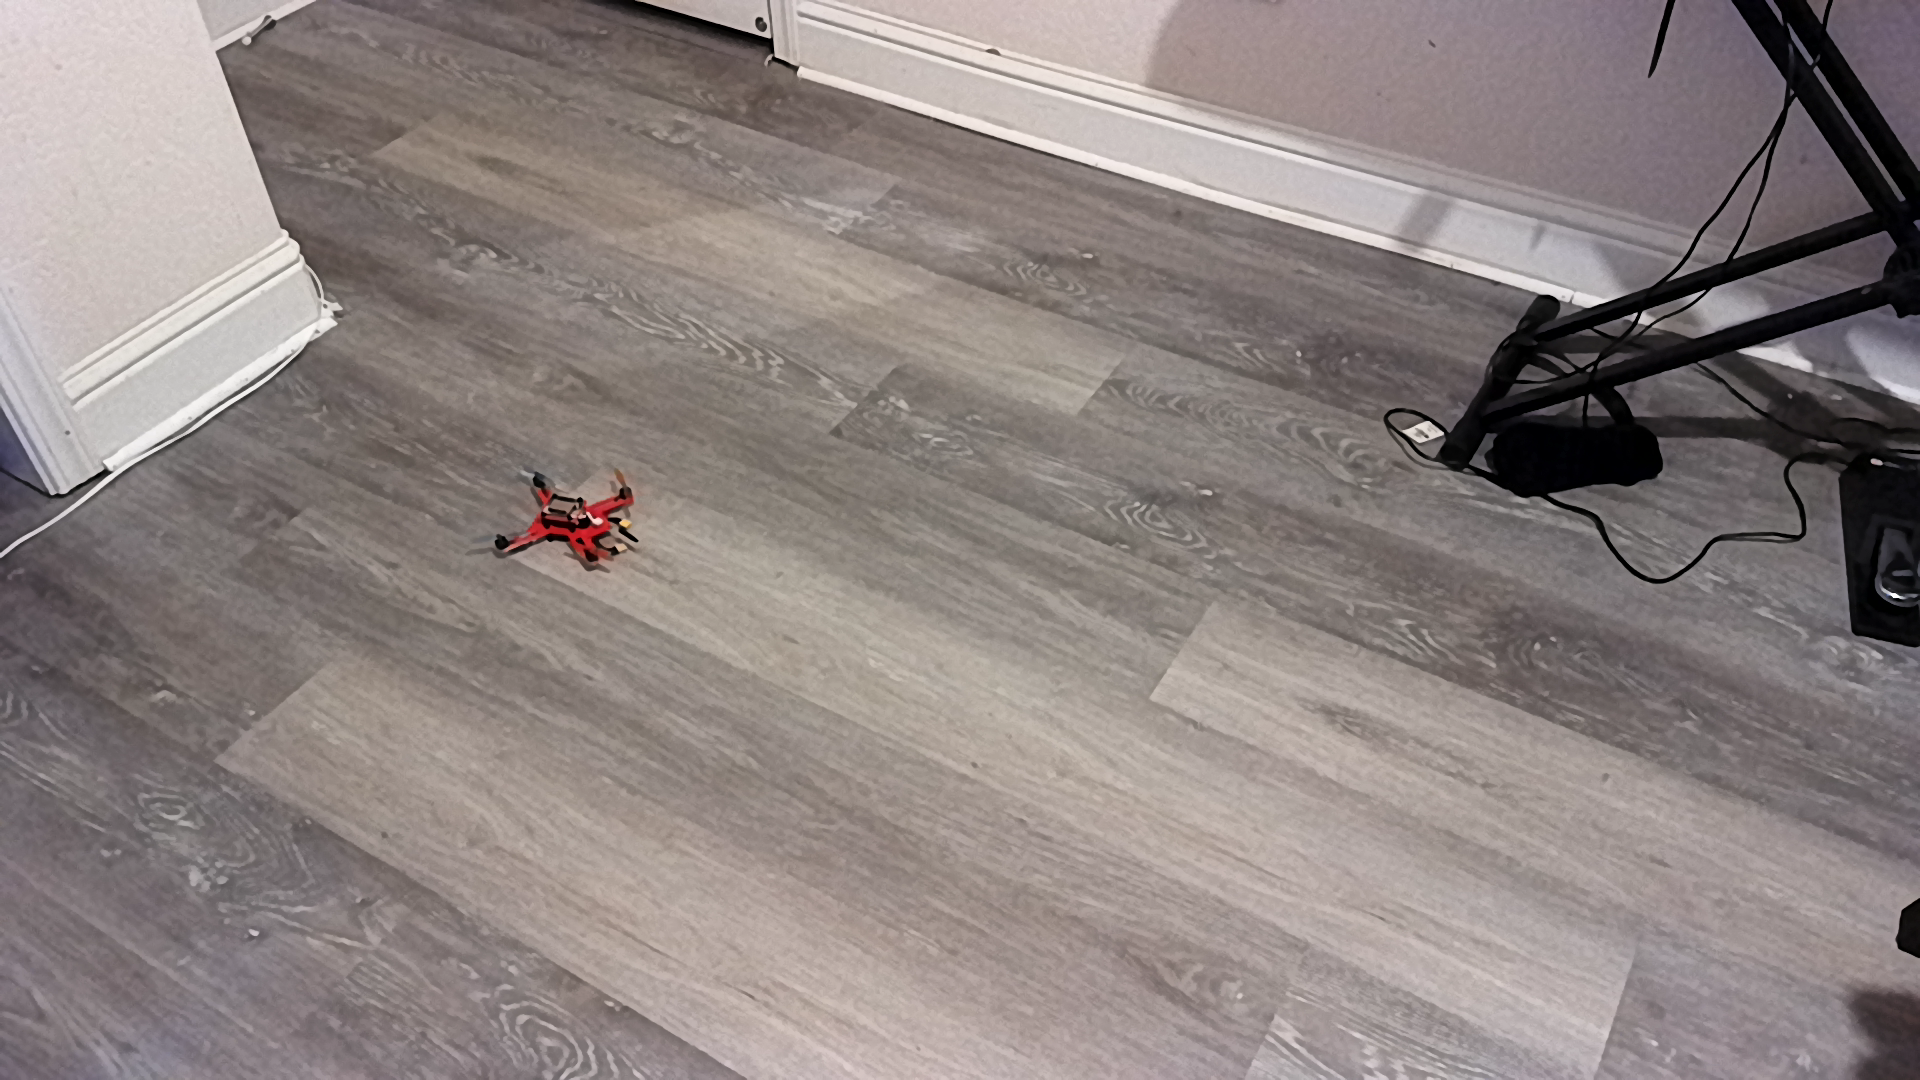drone: (476, 456, 659, 583)
